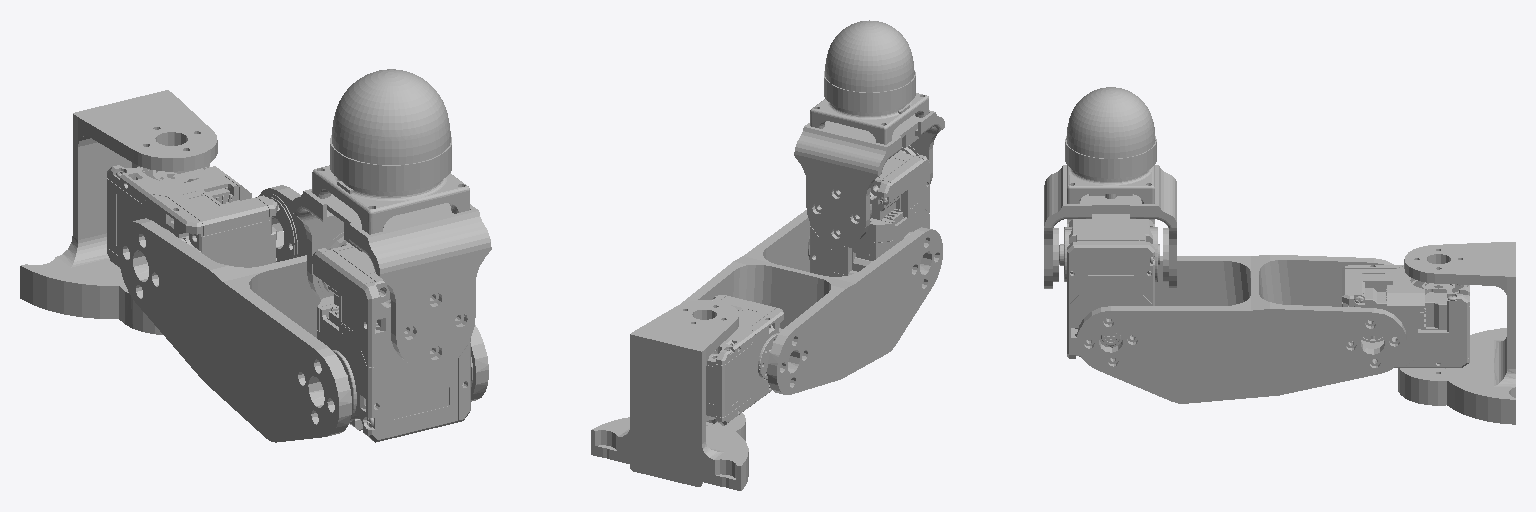
The robot description file, URDF, robot "DT_gripper_left":
<?xml version="1.0" encoding="utf-8"?>
<!-- This URDF was automatically created by SolidWorks to URDF Exporter! Originally created by [author] ([email redacted]) 
     Commit Version: 1.6.0-4-g7f85cfe  Build Version: 1.6.7995.38578
     For more information, please see http://wiki.ros.org/sw_urdf_exporter -->
<robot
  name="DT_gripper_left">
  <link
    name="Link_0_1">
    <inertial>
      <origin
        xyz="0 -6.93889390390723E-18 0.0150172297115083"
        rpy="0 0 0" />
      <mass
        value="0.035" />
      <inertia
        ixx="3.82502607446515E-05"
        ixy="5.63004985316599E-13"
        ixz="1.38024178340574E-21"
        iyy="2.55682822465902E-05"
        iyz="-2.99181481392226E-21"
        izz="3.01786195512601E-05" />
    </inertial>
    <visual>
      <origin
        xyz="0 0 0"
        rpy="0 0 0" />
      <geometry>
        <mesh
          filename="package://DT_gripper/meshes/Link_0_1.STL" />
      </geometry>
      <material
        name="">
        <color
          rgba="0.752941176470588 0.752941176470588 0.752941176470588 1" />
      </material>
    </visual>
    <collision>
      <origin
        xyz="0 0 0"
        rpy="0 0 0" />
      <geometry>
        <mesh
          filename="package://DT_gripper/meshes/Link_0_1.STL" />
      </geometry>
    </collision>
  </link>
  <link
    name="Link_2">
    <inertial>
      <origin
        xyz="0.000133911513531482 0.0308660885322123 0.0108576264680072"
        rpy="0 0 0" />
      <mass
        value="0.105" />
      <inertia
        ixx="0.00551557251148511"
        ixy="-3.2539665913117E-06"
        ixz="-5.9948811830428E-08"
        iyy="0.00037706444753596"
        iyz="-5.19397616561902E-06"
        izz="0.00526985090101087" />
    </inertial>
    <visual>
      <origin
        xyz="0 0 0"
        rpy="0 0 0" />
      <geometry>
        <mesh
          filename="package://DT_gripper/meshes/Link_2.STL" />
      </geometry>
      <material
        name="">
        <color
          rgba="0.752941176470588 0.752941176470588 0.752941176470588 1" />
      </material>
    </visual>
    <collision>
      <origin
        xyz="0 0 0"
        rpy="0 0 0" />
      <geometry>
        <mesh
          filename="package://DT_gripper/meshes/Link_2.STL" />
      </geometry>
    </collision>
  </link>
  <joint
    name="Joint_1"
    type="continuous">
    <origin
      xyz="0 -0.031 0.029"
      rpy="0 0 0" />
    <parent
      link="Link_0_1" />
    <child
      link="Link_2" />
    <axis
      xyz="0 0 1" />
  </joint>
  <link
    name="Link_3">
    <inertial>
      <origin
        xyz="-6.6959E-10 -0.047312 -0.003167"
        rpy="0 0 0" />
      <mass
        value="0.032" />
      <inertia
        ixx="3.0041E-05"
        ixy="3.5933E-13"
        ixz="2.5652E-13"
        iyy="1.7697E-05"
        iyz="-2.3365E-07"
        izz="4.1102E-05" />
    </inertial>
    <visual>
      <origin
        xyz="0 0 0"
        rpy="0 0 0" />
      <geometry>
        <mesh
          filename="package://DT_gripper/meshes/Link_3.STL" />
      </geometry>
      <material
        name="">
        <color
          rgba="0.75294 0.75294 0.75294 1" />
      </material>
    </visual>
    <collision>
      <origin
        xyz="0 0 0"
        rpy="0 0 0" />
      <geometry>
        <mesh
          filename="package://DT_gripper/meshes/Link_3.STL" />
      </geometry>
    </collision>
  </link>
  <joint
    name="Joint_2"
    type="continuous">
    <origin
      xyz="0 -0.024 0"
      rpy="0 0 0" />
    <parent
      link="Link_2" />
    <child
      link="Link_3" />
    <axis
      xyz="1 0 0" />
  </joint>
  <link
    name="Link_4">
    <inertial>
      <origin
        xyz="0.00013391 0.15039 0.010104"
        rpy="0 0 0" />
      <mass
        value="0.105" />
      <inertia
        ixx="0.0055156"
        ixy="-3.254E-06"
        ixz="-5.9949E-08"
        iyy="0.00037706"
        iyz="-5.194E-06"
        izz="0.0052699" />
    </inertial>
    <visual>
      <origin
        xyz="0 0 0"
        rpy="0 0 0" />
      <geometry>
        <mesh
          filename="package://DT_gripper/meshes/Link_4.STL" />
      </geometry>
      <material
        name="">
        <color
          rgba="0.75294 0.75294 0.75294 1" />
      </material>
    </visual>
    <collision>
      <origin
        xyz="0 0 0"
        rpy="0 0 0" />
      <geometry>
        <mesh
          filename="package://DT_gripper/meshes/Link_4.STL" />
      </geometry>
    </collision>
  </link>
  <joint
    name="Joint_3"
    type="continuous">
    <origin
      xyz="0 -0.095522 0.000754"
      rpy="0 0 0" />
    <parent
      link="Link_3" />
    <child
      link="Link_4" />
    <axis
      xyz="1 0 0" />
  </joint>
  <link
    name="Grip_1">
    <inertial>
      <origin
        xyz="-1.87532538448026E-05 -1.46755248142255E-05 0.0353004822904477"
        rpy="0 0 0" />
      <mass
        value="0.065" />
      <inertia
        ixx="7.7154399626129E-06"
        ixy="2.6075628479324E-10"
        ixz="1.58733850084192E-09"
        iyy="4.43641994241611E-06"
        iyz="1.64596780856448E-10"
        izz="7.87085677073128E-06" />
    </inertial>
    <visual>
      <origin
        xyz="0 0 0"
        rpy="0 0 0" />
      <geometry>
        <mesh
          filename="package://DT_gripper/meshes/Grip_1.STL" />
      </geometry>
      <material
        name="">
        <color
          rgba="0.752941176470588 0.752941176470588 0.752941176470588 1" />
      </material>
    </visual>
    <collision>
      <origin
        xyz="0 0 0"
        rpy="0 0 0" />
      <geometry>
        <mesh
          filename="package://DT_gripper/meshes/Grip_1.STL" />
      </geometry>
    </collision>
  </link>
  <joint
    name="Joint_4"
    type="continuous">
    <origin
      xyz="0 0 0.024"
      rpy="0 0 0" />
    <parent
      link="Link_4" />
    <child
      link="Grip_1" />
    <axis
      xyz="0 1 0" />
  </joint>
  <link
    name="EE_1">
    <inertial>
      <origin
        xyz="0 0 0"
        rpy="0 0 0" />
      <mass
        value="0" />
      <inertia
        ixx="0"
        ixy="0"
        ixz="0"
        iyy="0"
        iyz="0"
        izz="0" />
    </inertial>
  </link>
  <joint
    name="Joint_5"
    type="fixed">
    <origin
      xyz="0 0 0.055"
      rpy="0 0 0" />
    <parent
      link="Grip_1" />
    <child
      link="EE_1" />
  </joint>
</robot>

--- Render facts (derived) ---
The picture shows the robot from 3 angles, left to right: view 1: azimuth 30°, elevation 25°; view 2: azimuth 150°, elevation 25°; view 3: azimuth 270°, elevation 25°; orthographic projection.
Model DT_gripper_left with 6 links and 5 joints (4 continuous, 1 fixed), rooted at Link_0_1, posed every joint at zero.
Links seen in each view (by area): view 1: Grip_1, Link_3, Link_0_1, Link_4, Link_2; view 2: Link_3, Grip_1, Link_0_1, Link_4, Link_2; view 3: Link_3, Grip_1, Link_0_1, Link_4, Link_2.
Boxes of the visible links, bbox=[...] form: Grip_1: bbox=[291, 69, 491, 368]; Link_3: bbox=[118, 185, 488, 442]; Link_0_1: bbox=[20, 90, 217, 334]; Link_4: bbox=[312, 242, 470, 442]; Link_2: bbox=[107, 163, 277, 267]; Link_3: bbox=[681, 210, 942, 394]; Grip_1: bbox=[794, 20, 944, 245]; Link_0_1: bbox=[591, 300, 748, 490]; Link_4: bbox=[810, 150, 929, 276]; Link_2: bbox=[706, 295, 783, 424]; Link_3: bbox=[1077, 255, 1406, 403]; Grip_1: bbox=[1044, 87, 1176, 288]; Link_0_1: bbox=[1398, 242, 1515, 424]; Link_4: bbox=[1059, 214, 1159, 358]; Link_2: bbox=[1342, 265, 1469, 367].
Size in the robot's own frame: 0.0627 by 0.1718 by 0.1221 metres.
Meshes: 5 distinct files referenced, 5 mesh visuals loaded (5 binary STL).